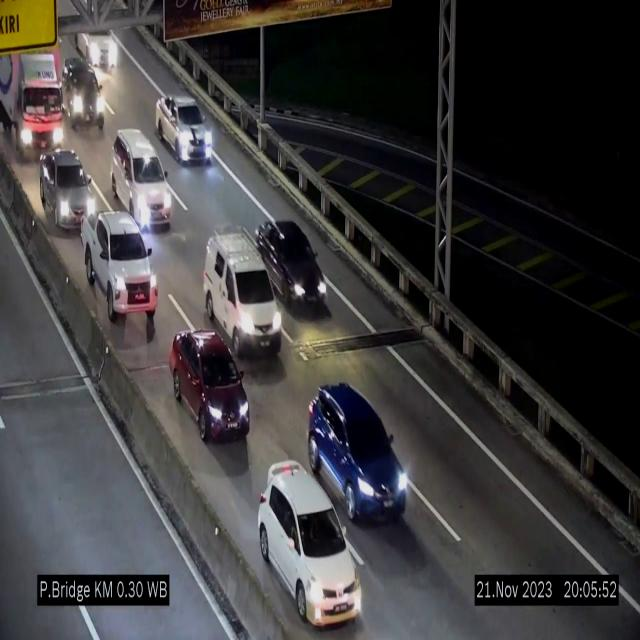Car: (259, 465, 361, 625), (309, 382, 410, 522), (203, 230, 282, 355), (84, 214, 160, 340), (170, 329, 249, 440), (254, 217, 328, 311), (36, 144, 98, 239), (114, 129, 172, 228), (57, 59, 113, 137), (155, 94, 213, 161), (73, 18, 121, 72)
Truck: (0, 24, 61, 174)
